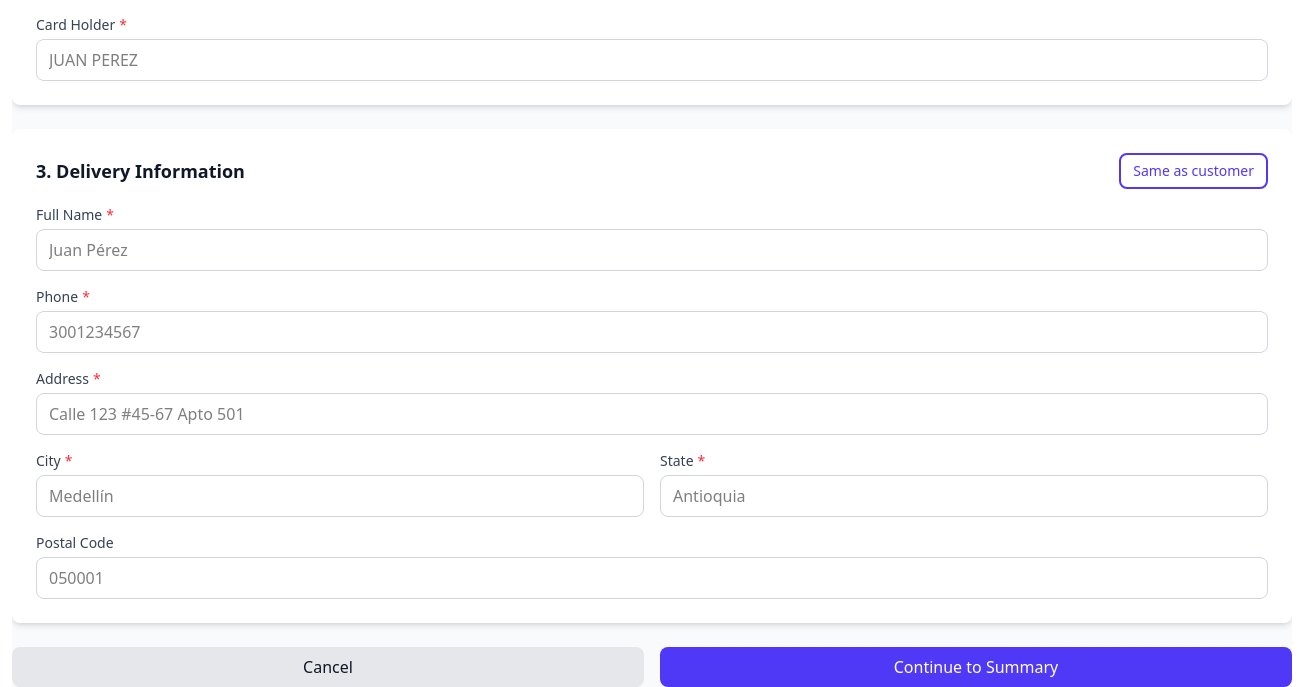
CheckoutForm › shows validation errors when submitting empty form
(page scrolled)
Click the button "Continue to Summary" at (976, 667), box [660,647,1292,686]
(page scrolled)
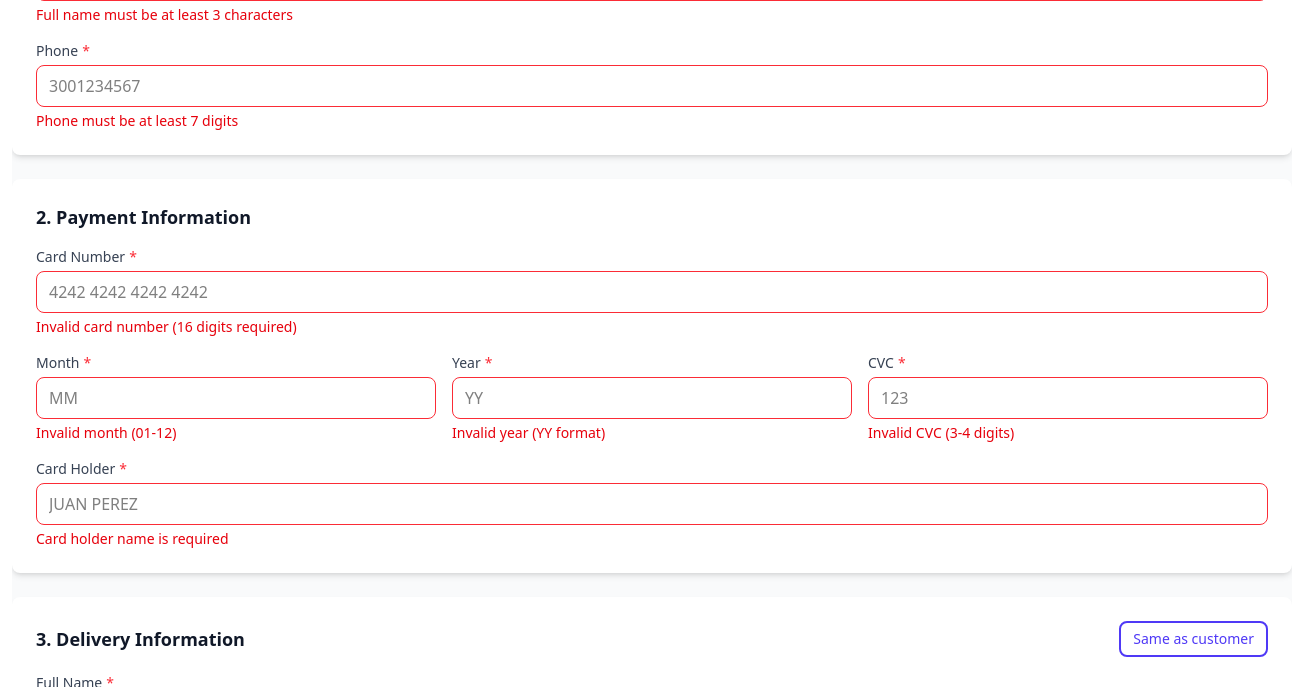
expect the text "Invalid card number (16 digits required)" is shown: met, box [36,317,297,336]
